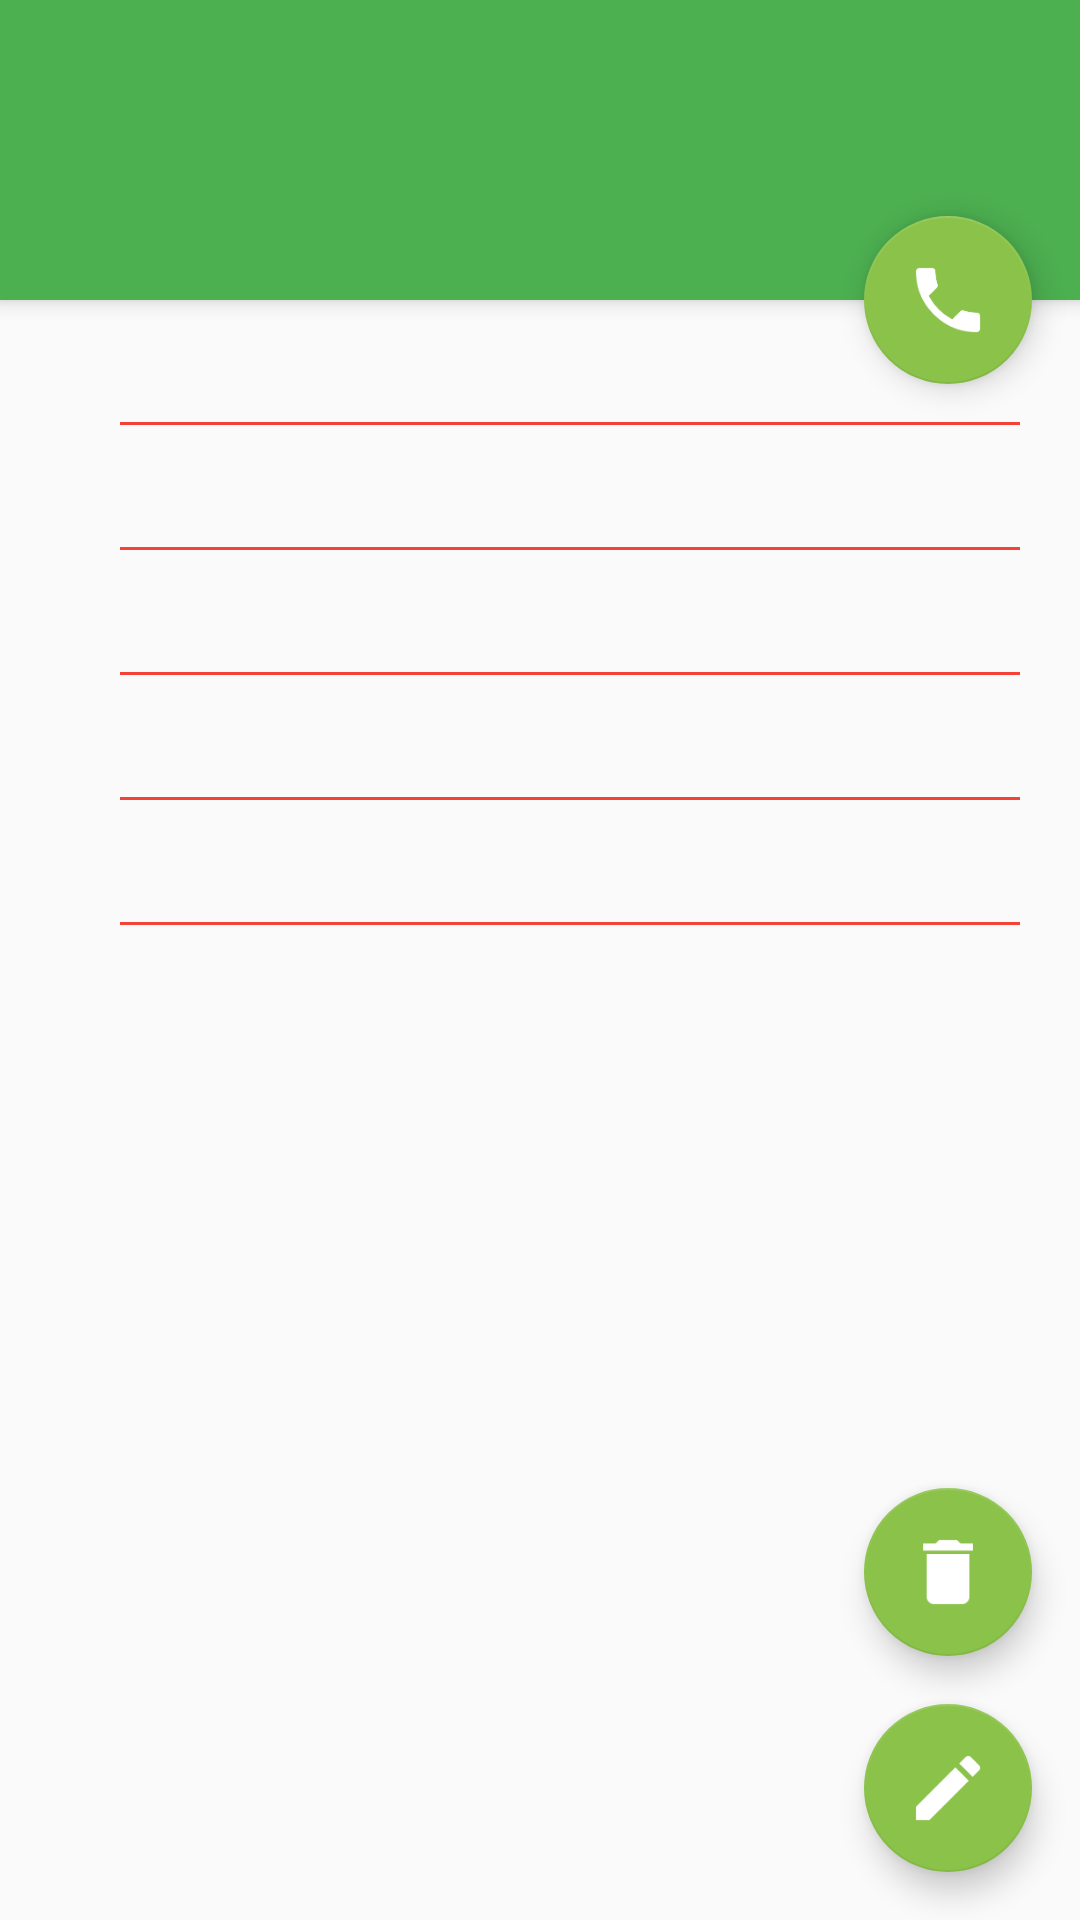

Where to tap for icons on this 1080*1920 app screen, as (x=x, y=y):
delete: (x=948, y=1572)
local phone: (x=948, y=300)
mode edit: (x=948, y=1788)
